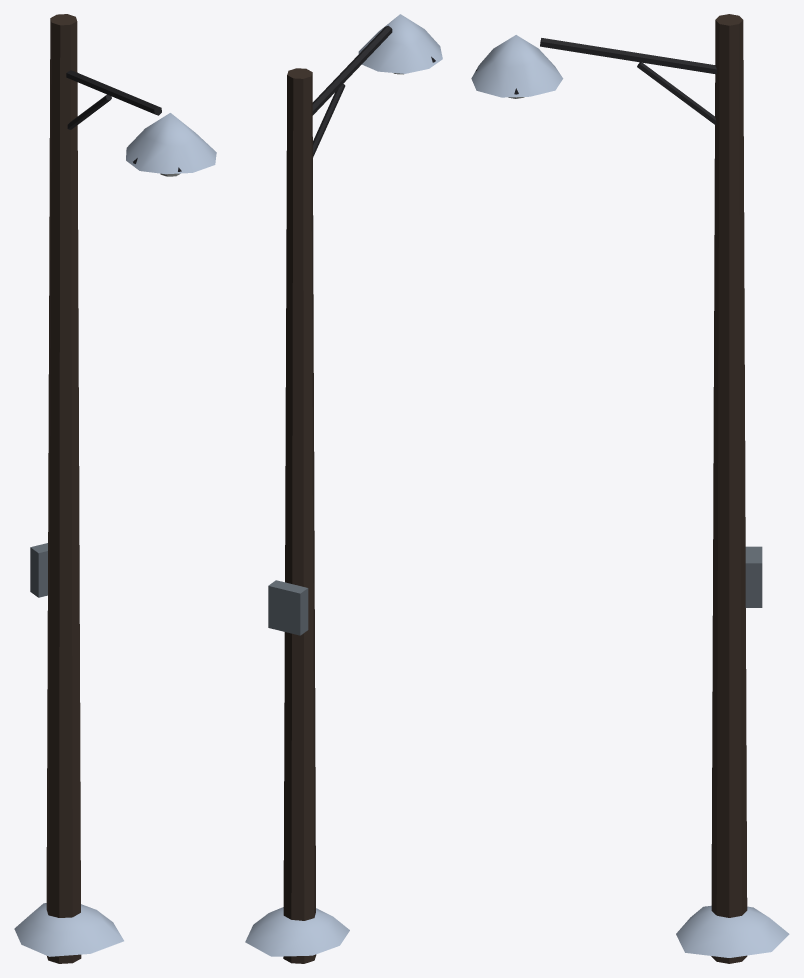
The model's file is lamp_post.glb.
The picture shows the model from 3 angles, left to right: view 1: azimuth 30°, elevation 25°; view 2: azimuth 150°, elevation 25°; view 3: azimuth 270°, elevation 25°; orthographic projection. The views are drawn at different scales.
Visible parts, largest first — view 1: Prop; view 2: Prop; view 3: Prop.
Boxes of the visible parts, x1=… form: Prop: x1=14, y1=14, x2=216, y2=963; Prop: x1=245, y1=14, x2=442, y2=963; Prop: x1=471, y1=14, x2=789, y2=963.
Size of the model in its own units: 0.646 by 6.3 by 1.94.
